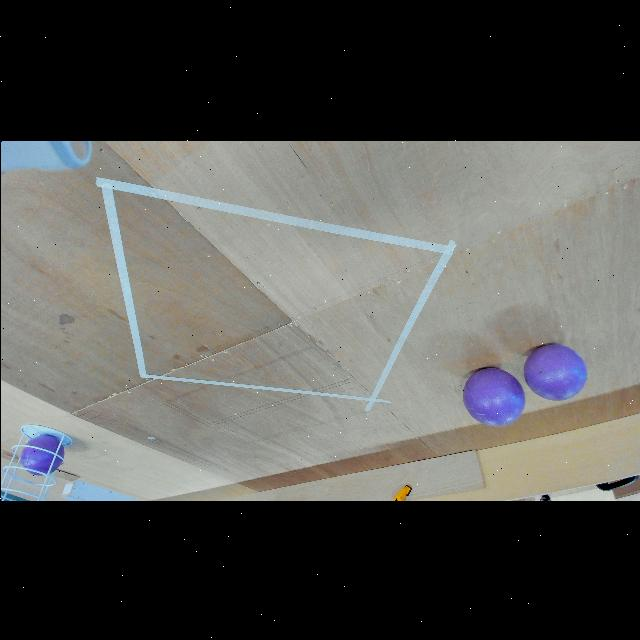B: (523, 342, 587, 400)
P: (462, 366, 524, 426), (18, 433, 64, 475)
